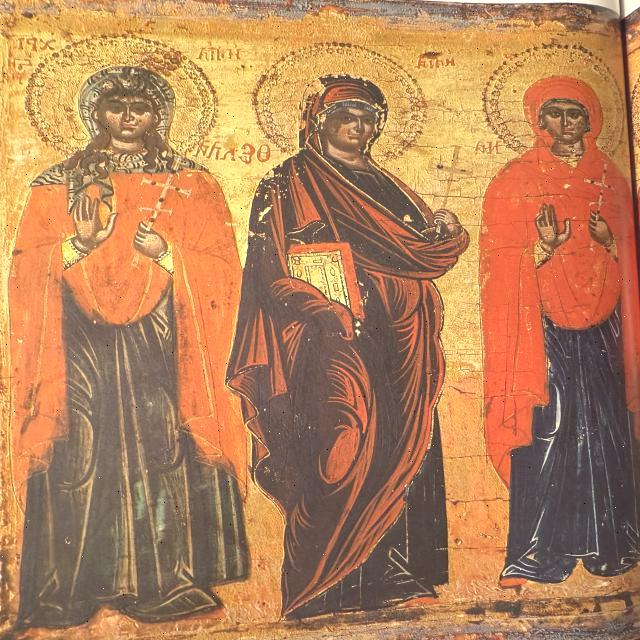aura: (24, 34, 224, 164), (247, 38, 434, 163), (483, 45, 625, 155)
book: (280, 236, 365, 332)
saint: (14, 33, 237, 623), (250, 42, 468, 618), (468, 42, 632, 594)
